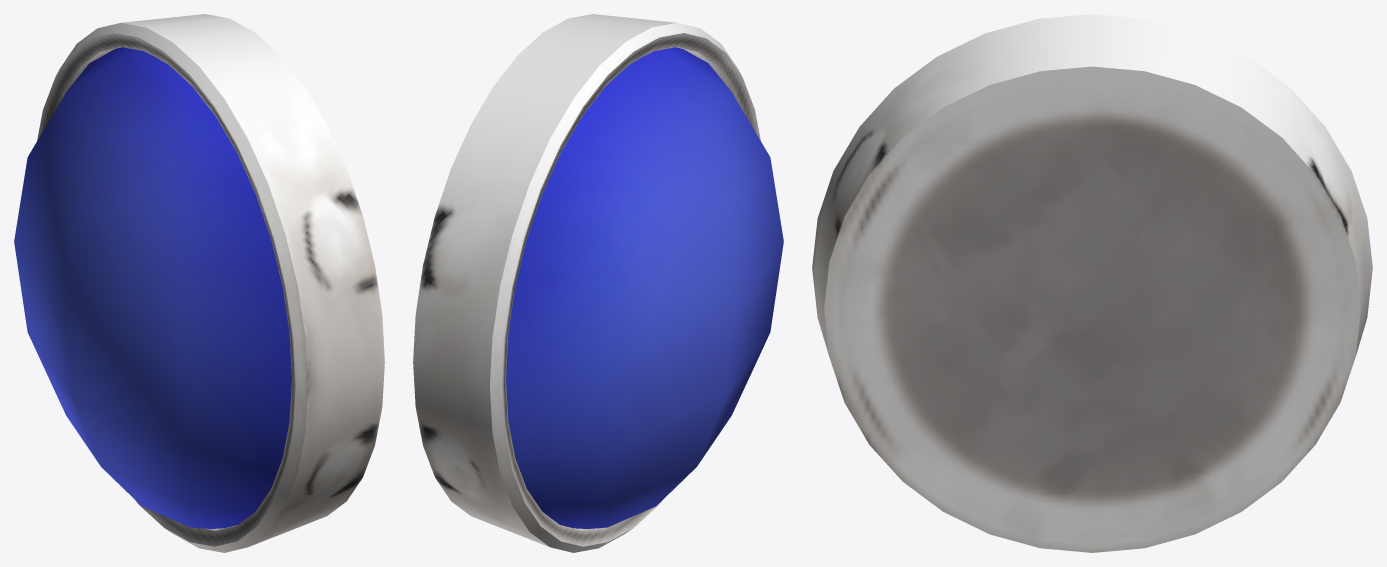
The model's file is SM_Gem_D_Silver.fbx.
The picture shows the model from 3 angles, left to right: view 1: azimuth 30°, elevation 25°; view 2: azimuth 150°, elevation 25°; view 3: azimuth 270°, elevation 25°; orthographic projection. The views are drawn at different scales.
Visible parts, largest first — view 1: SM_Gem_D_Silver_LOD0; view 2: SM_Gem_D_Silver_LOD0; view 3: SM_Gem_D_Silver_LOD0.
Part boxes in pixels (x1,y1,x2,y2): SM_Gem_D_Silver_LOD0: [14, 14, 384, 552]; SM_Gem_D_Silver_LOD0: [413, 14, 783, 552]; SM_Gem_D_Silver_LOD0: [812, 14, 1372, 552].
Bounding box in the file's own units: 1.35 × 3.32 × 3.32.
1 material, 1 textured.
